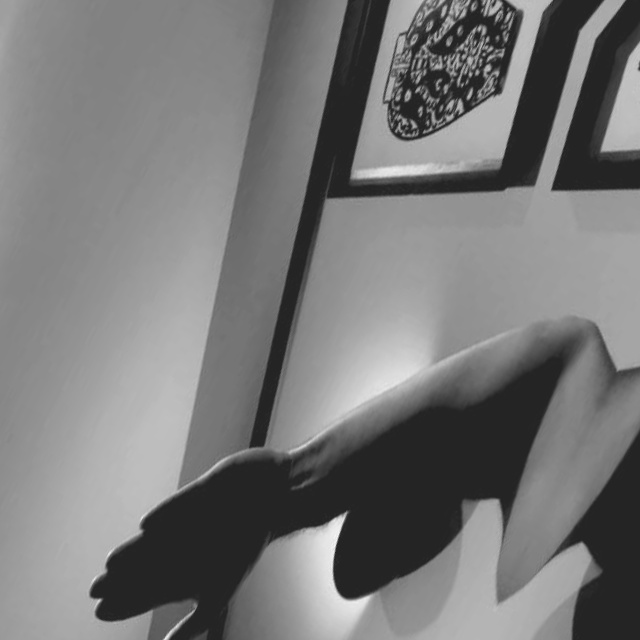Paper: (55, 396, 316, 640)
